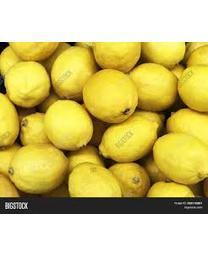lemon: (153, 130, 207, 186), (8, 144, 68, 193), (84, 69, 136, 124), (99, 117, 160, 162), (129, 61, 178, 112), (44, 100, 91, 152), (52, 47, 95, 99), (5, 62, 49, 107)
